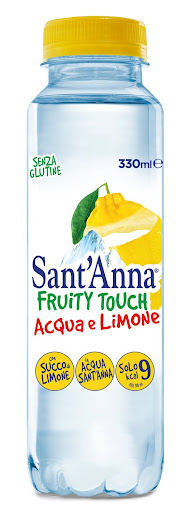PlasticBottle: (26, 13, 176, 496)
